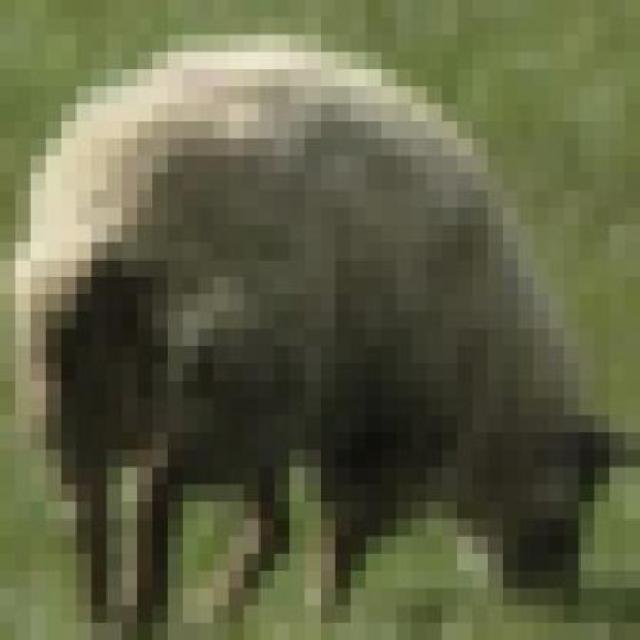Sheep: (0, 0, 625, 623)
